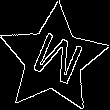M_SW: (23, 27, 84, 91)
